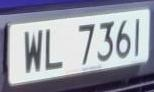1: (130, 14, 143, 63)
3: (97, 17, 116, 67)
6: (114, 16, 133, 65)
7: (75, 19, 98, 71)
L: (44, 24, 68, 75)
W: (21, 24, 46, 79)
